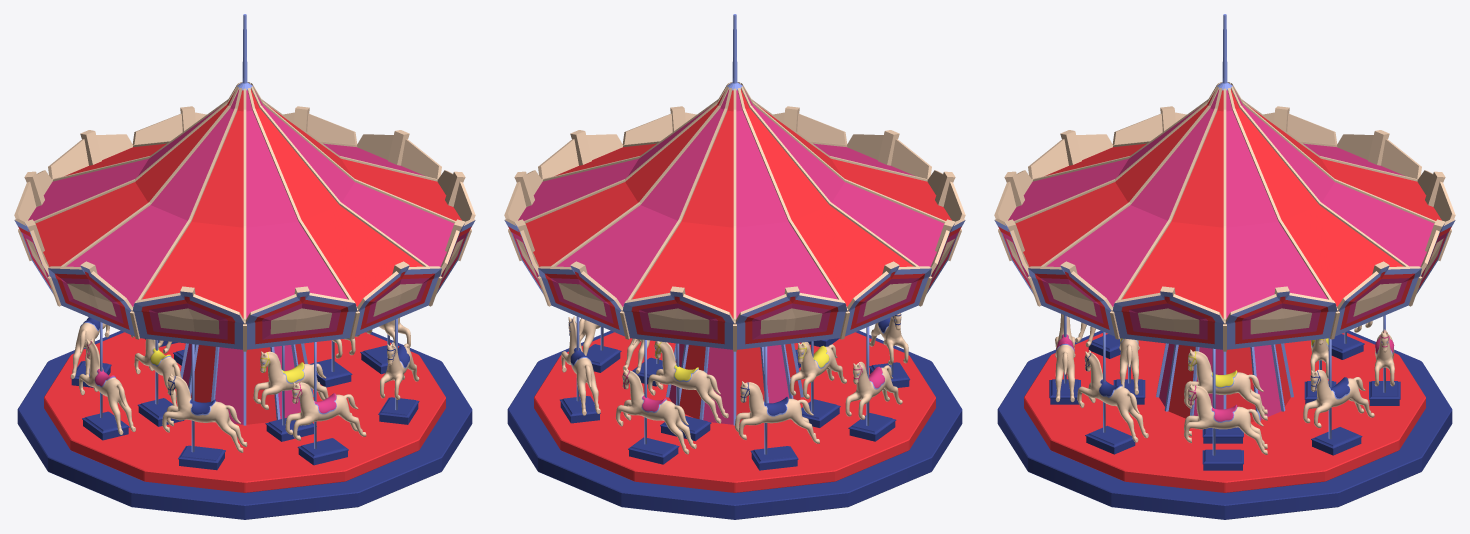
The model's file is carrusel.glb.
The picture shows the model from 3 angles, left to right: view 1: azimuth 30°, elevation 25°; view 2: azimuth 150°, elevation 25°; view 3: azimuth 270°, elevation 25°; orthographic projection.
Parts seen in each view (by area): view 1: Circle, Circle.005, Circle.007, Circle.004, Circle.006, Circle.008, Circle.001, Circle.009, Circle.010; view 2: Circle, Circle.005, Circle.010, Circle.011, Circle.012, Circle.008, Circle.009, Circle.013, Circle.007; view 3: Circle, Circle.005, Circle.002, Circle.001, Circle.013, Circle.003, Circle.004, Circle.011, Circle.006, Circle.012.
Boxes of the visible parts, bbox=[...] form: Circle: bbox=[14, 14, 475, 492]; Circle.005: bbox=[17, 330, 472, 519]; Circle.007: bbox=[162, 344, 247, 452]; Circle.004: bbox=[285, 342, 366, 448]; Circle.006: bbox=[253, 345, 328, 425]; Circle.008: bbox=[79, 322, 135, 435]; Circle.001: bbox=[380, 318, 419, 410]; Circle.009: bbox=[134, 339, 181, 405]; Circle.010: bbox=[70, 317, 109, 378]; Circle: bbox=[504, 14, 965, 492]; Circle.005: bbox=[507, 330, 962, 519]; Circle.010: bbox=[735, 346, 819, 454]; Circle.011: bbox=[615, 340, 696, 454]; Circle.012: bbox=[648, 341, 728, 423]; Circle.008: bbox=[845, 326, 902, 425]; Circle.009: bbox=[790, 341, 846, 412]; Circle.013: bbox=[561, 316, 600, 415]; Circle.007: bbox=[869, 313, 908, 375]; Circle: bbox=[994, 14, 1455, 492]; Circle.005: bbox=[997, 330, 1452, 519]; Circle.002: bbox=[1184, 348, 1267, 455]; Circle.001: bbox=[1077, 331, 1148, 442]; Circle.013: bbox=[1303, 338, 1374, 439]; Circle.003: bbox=[1184, 349, 1267, 420]; Circle.004: bbox=[1055, 314, 1075, 402]; Circle.011: bbox=[1374, 315, 1394, 392]; Circle.006: bbox=[1119, 338, 1139, 394]; Circle.012: bbox=[1310, 338, 1328, 378].
Size of the model in its own units: 0.765 by 0.7489 by 0.765.
